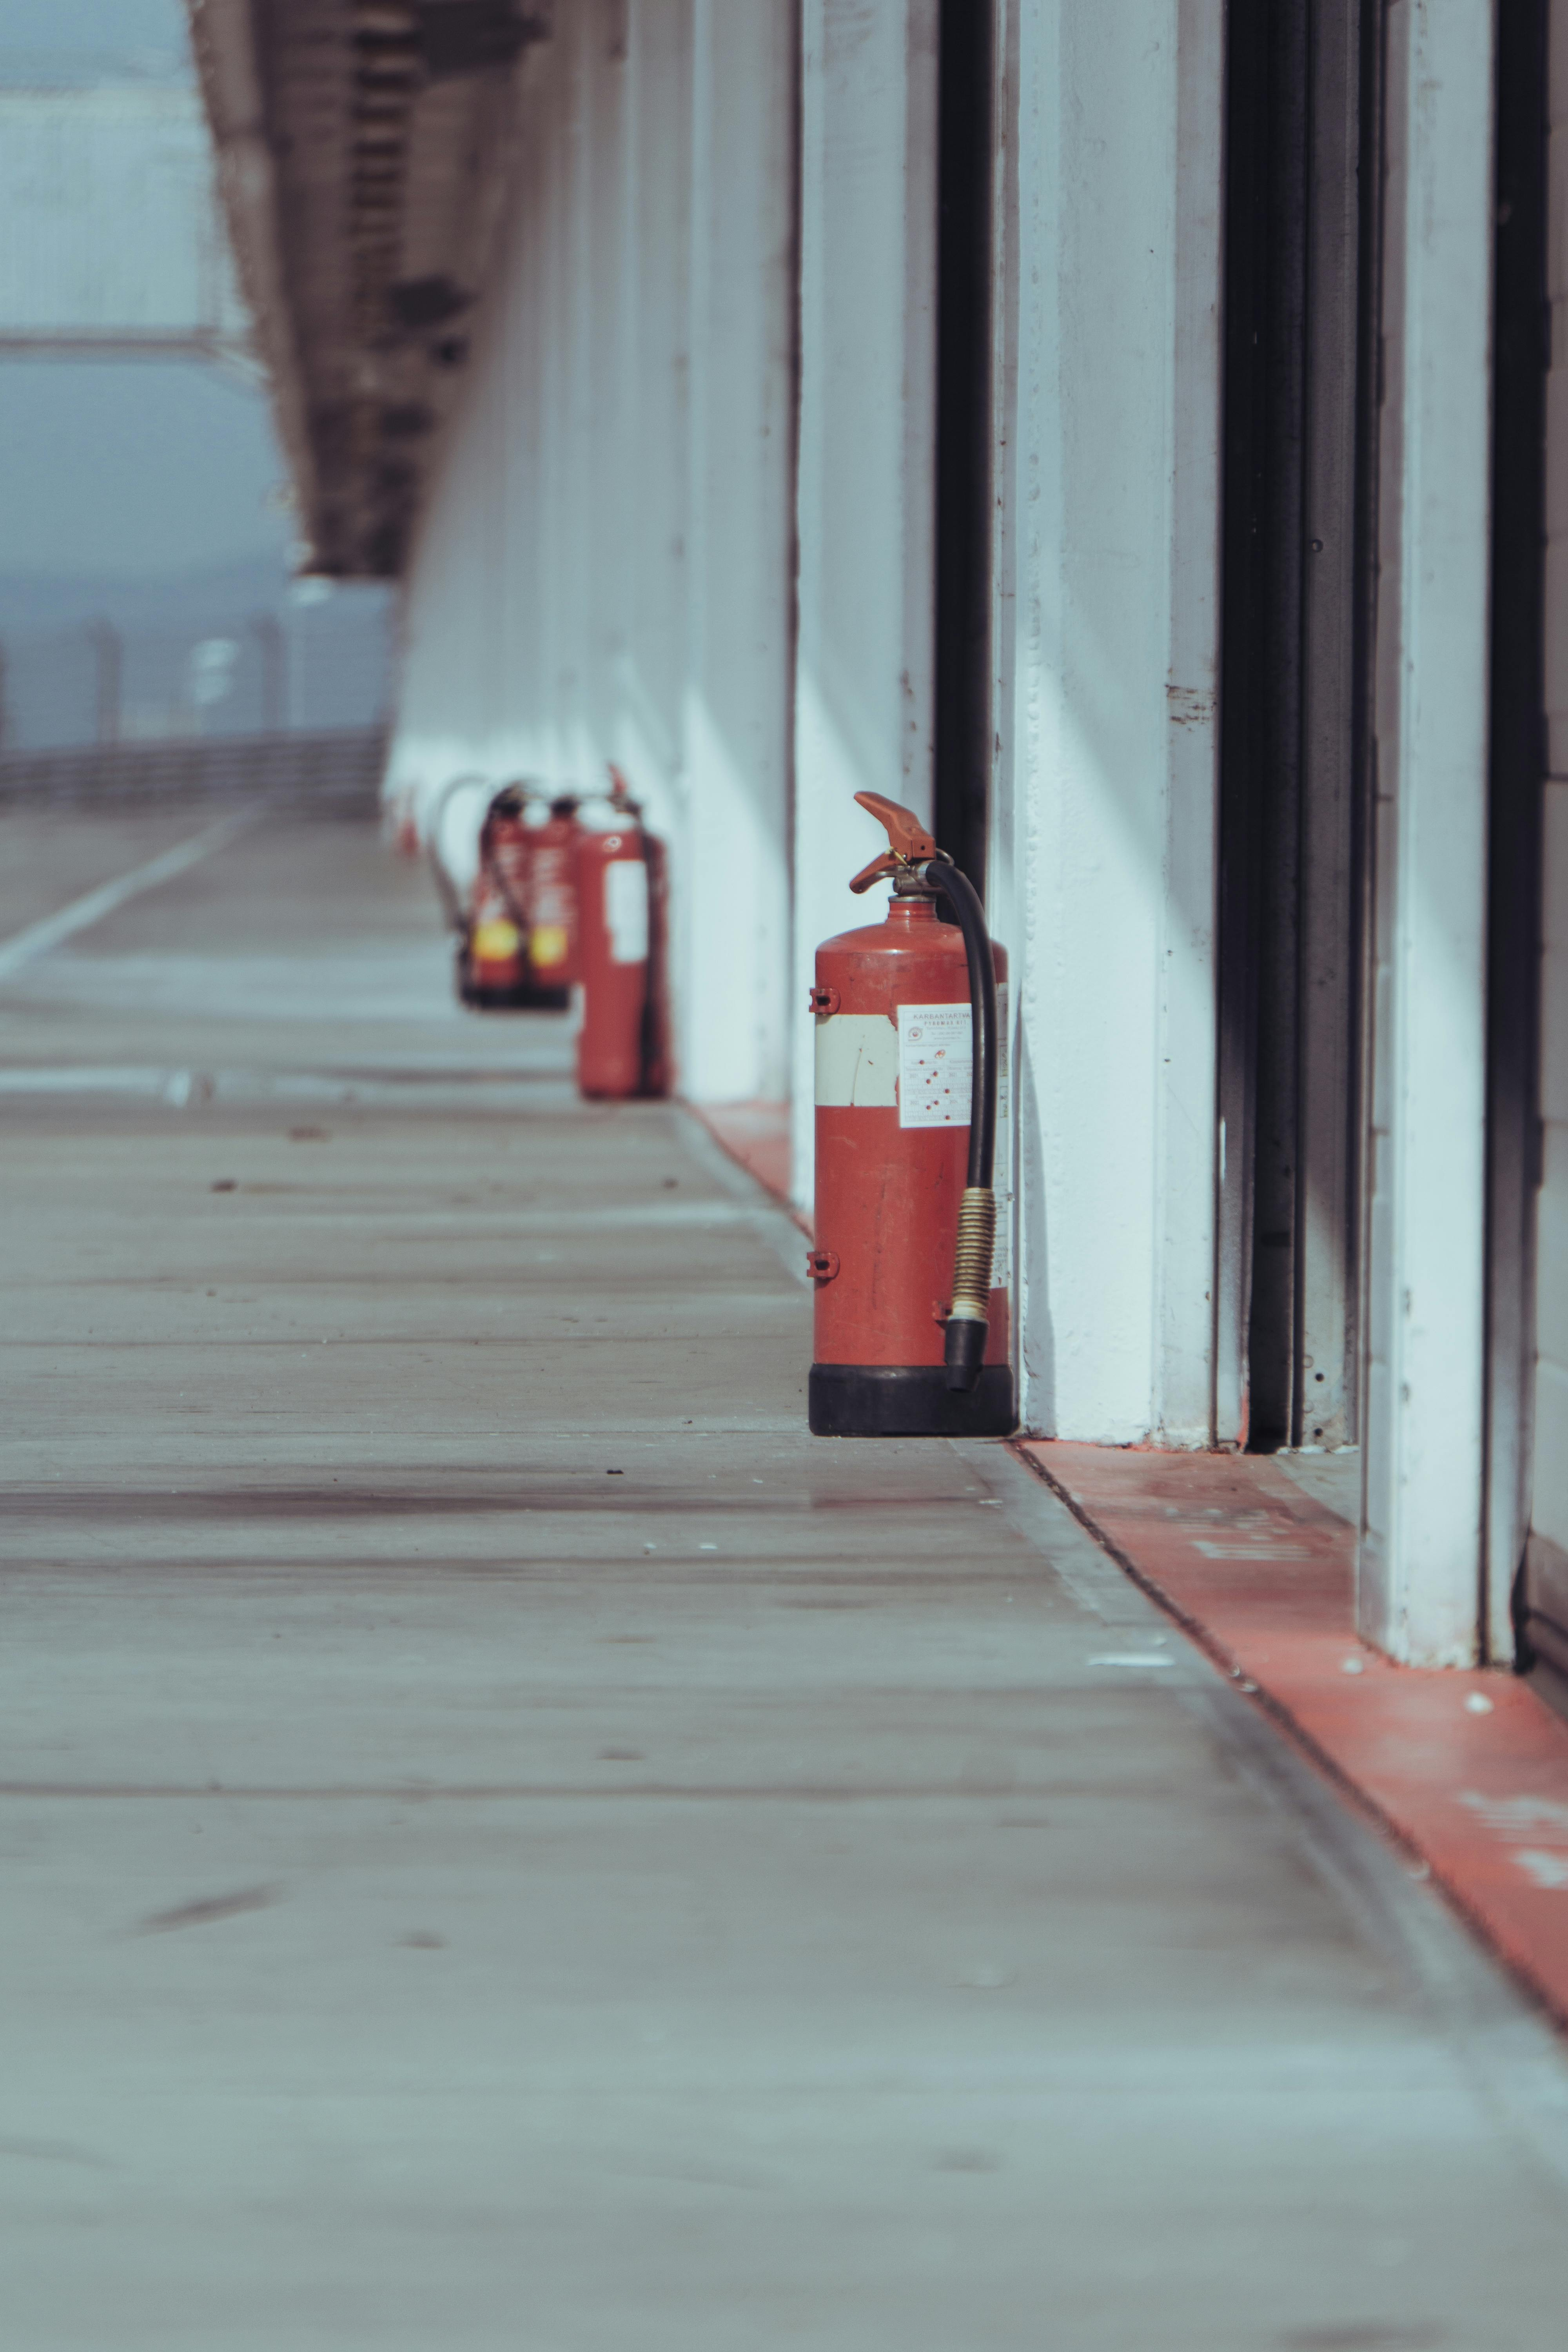extintor: (789, 772, 1048, 1447), (551, 749, 724, 1125), (418, 754, 539, 1020), (518, 775, 626, 1013)
